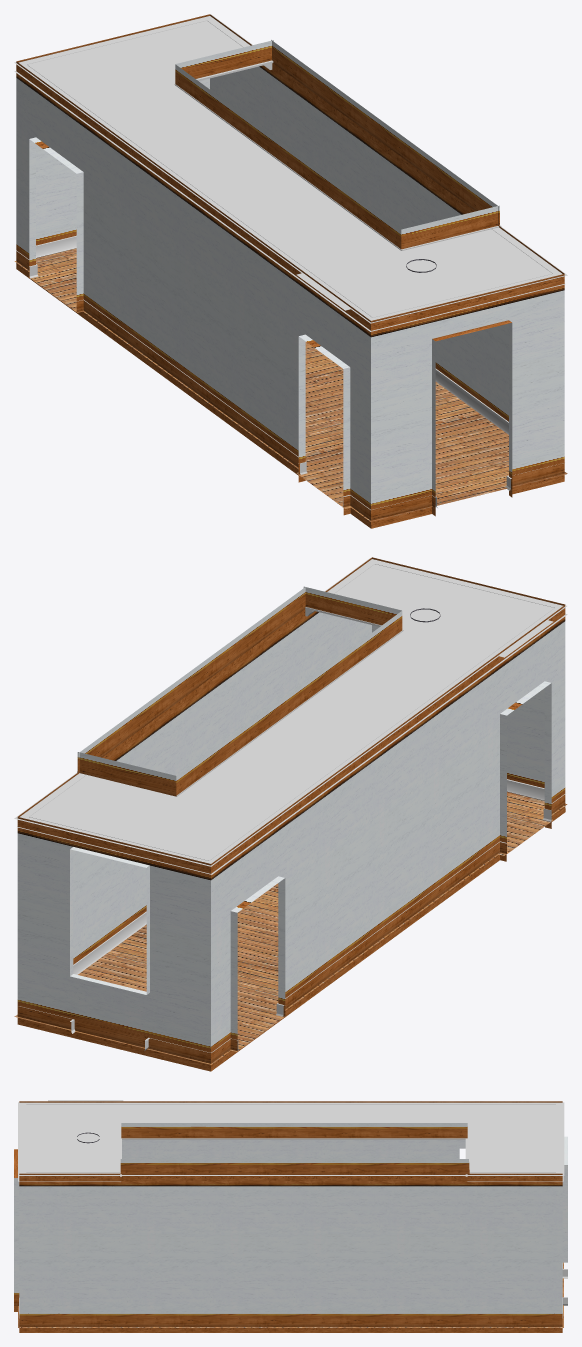
The model's file is BUILDING_groundFloorStairwell_02.FBX.
3 renders of one model, top to bottom at view 1: azimuth 30°, elevation 25°; view 2: azimuth 150°, elevation 25°; view 3: azimuth 270°, elevation 25°, orthographic. The views are drawn at different scales.
Parts seen in each view (by area): view 1: BUILDING_groundFloorStairwell_02_walls, BUILDING_groundFloorStairwell_02_ceiling, BUILDING_groundFloorStairwell_02_floor, BUILDING_groundFloorStairwell_02_plinthe, BUILDING_groundFloorStairwell_02_topEdge, BUILDING_groundFloorStairwell_02_stairsEdge; view 2: BUILDING_groundFloorStairwell_02_walls, BUILDING_groundFloorStairwell_02_ceiling, BUILDING_groundFloorStairwell_02_floor, BUILDING_groundFloorStairwell_02_plinthe, BUILDING_groundFloorStairwell_02_topEdge, BUILDING_groundFloorStairwell_02_stairsEdge; view 3: BUILDING_groundFloorStairwell_02_walls, BUILDING_groundFloorStairwell_02_ceiling, BUILDING_groundFloorStairwell_02_topEdge, BUILDING_groundFloorStairwell_02_stairsEdge, BUILDING_groundFloorStairwell_02_floor.
Boxes of the visible parts, x1,y1,x2,y2 form: BUILDING_groundFloorStairwell_02_walls: (16, 14, 564, 528); BUILDING_groundFloorStairwell_02_ceiling: (14, 14, 567, 323); BUILDING_groundFloorStairwell_02_floor: (14, 248, 567, 521); BUILDING_groundFloorStairwell_02_plinthe: (16, 235, 564, 509); BUILDING_groundFloorStairwell_02_topEdge: (14, 20, 565, 331); BUILDING_groundFloorStairwell_02_stairsEdge: (174, 60, 501, 250); BUILDING_groundFloorStairwell_02_walls: (17, 557, 565, 1071); BUILDING_groundFloorStairwell_02_ceiling: (14, 558, 566, 866); BUILDING_groundFloorStairwell_02_floor: (14, 791, 567, 1064); BUILDING_groundFloorStairwell_02_plinthe: (17, 779, 565, 1052); BUILDING_groundFloorStairwell_02_topEdge: (17, 564, 567, 874); BUILDING_groundFloorStairwell_02_stairsEdge: (77, 607, 403, 796); BUILDING_groundFloorStairwell_02_walls: (14, 1101, 567, 1332); BUILDING_groundFloorStairwell_02_ceiling: (18, 1100, 564, 1175); BUILDING_groundFloorStairwell_02_topEdge: (18, 1104, 563, 1181); BUILDING_groundFloorStairwell_02_stairsEdge: (120, 1138, 467, 1176); BUILDING_groundFloorStairwell_02_floor: (18, 1262, 563, 1327).
Size of the model in its own units: 439 by 468 by 1351.
4 materials, 3 textured.
